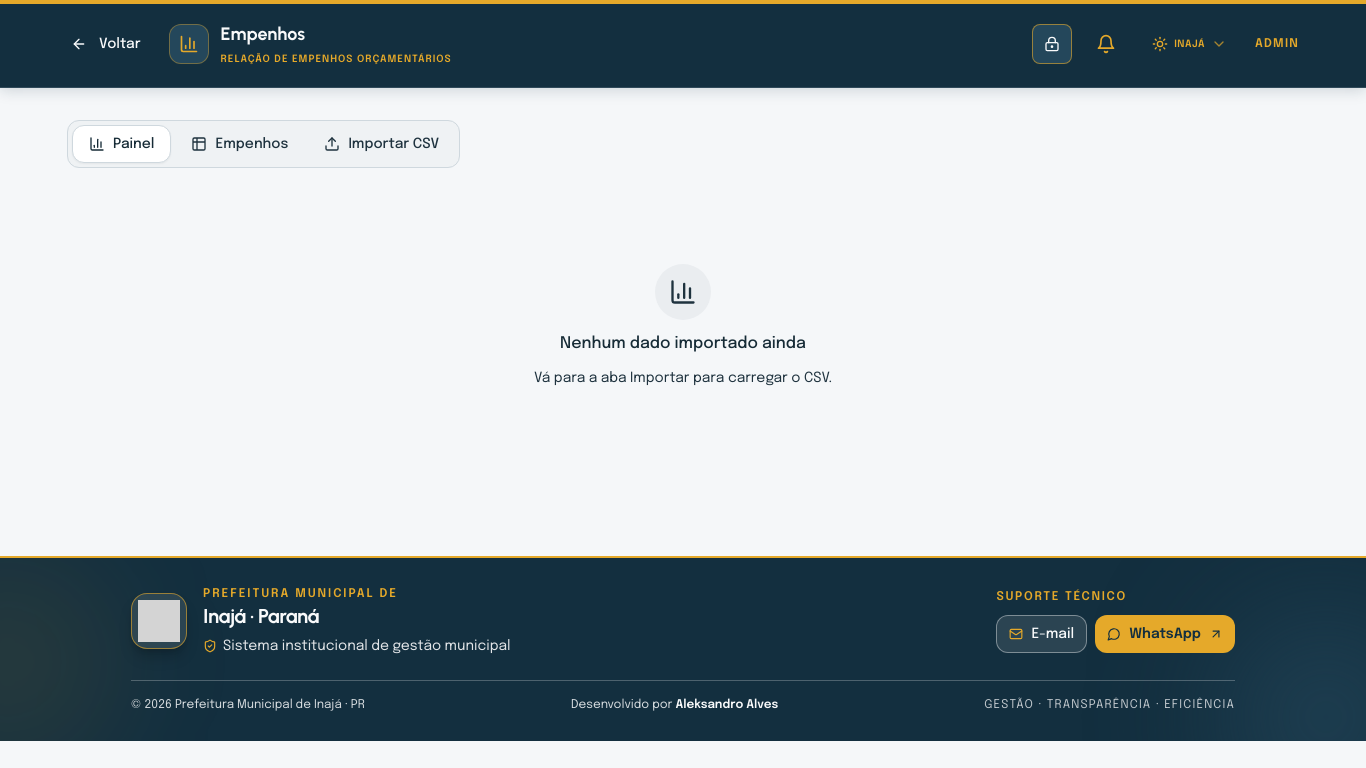
Test: Empenhos – Tabela com filtros › carrega filtros e linhas na montagem e exibe linhas
The width and height of the screenshot is (1366, 768).
Click the tab "Empenhos" at (240, 144), box [176,125,304,163]
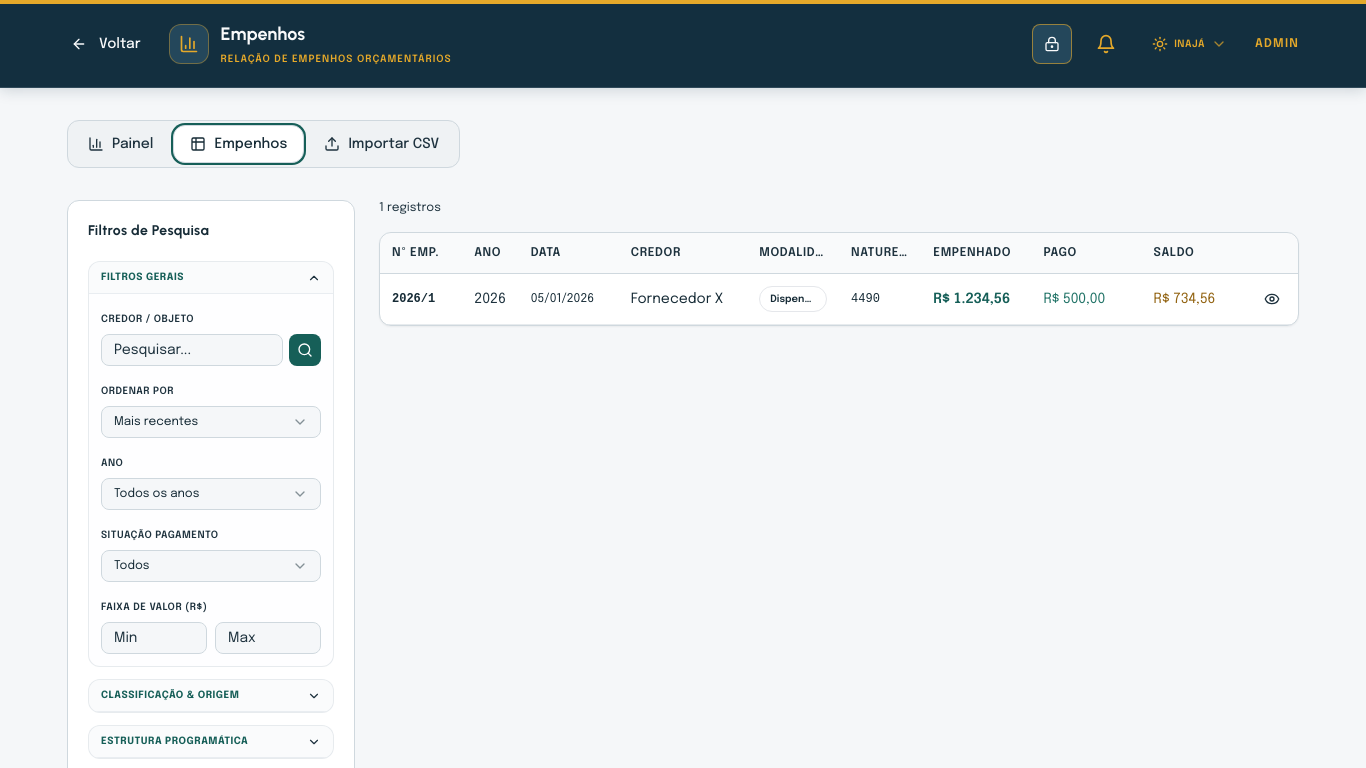
Expected: the text "Fornecedor X" is shown, [619,274,747,324]
Expected: the text "1 registros" is shown, [379,202,441,214]
